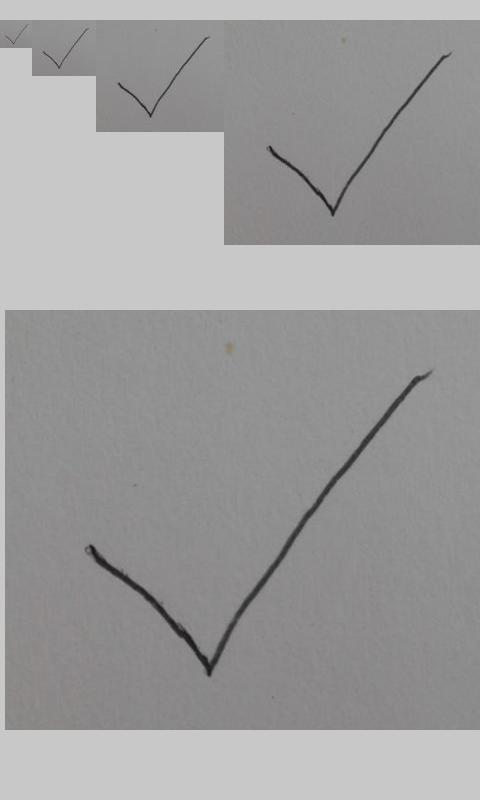check_box: (85, 373, 429, 675), (268, 53, 447, 217), (118, 37, 206, 117), (43, 29, 86, 69), (5, 25, 27, 45)
